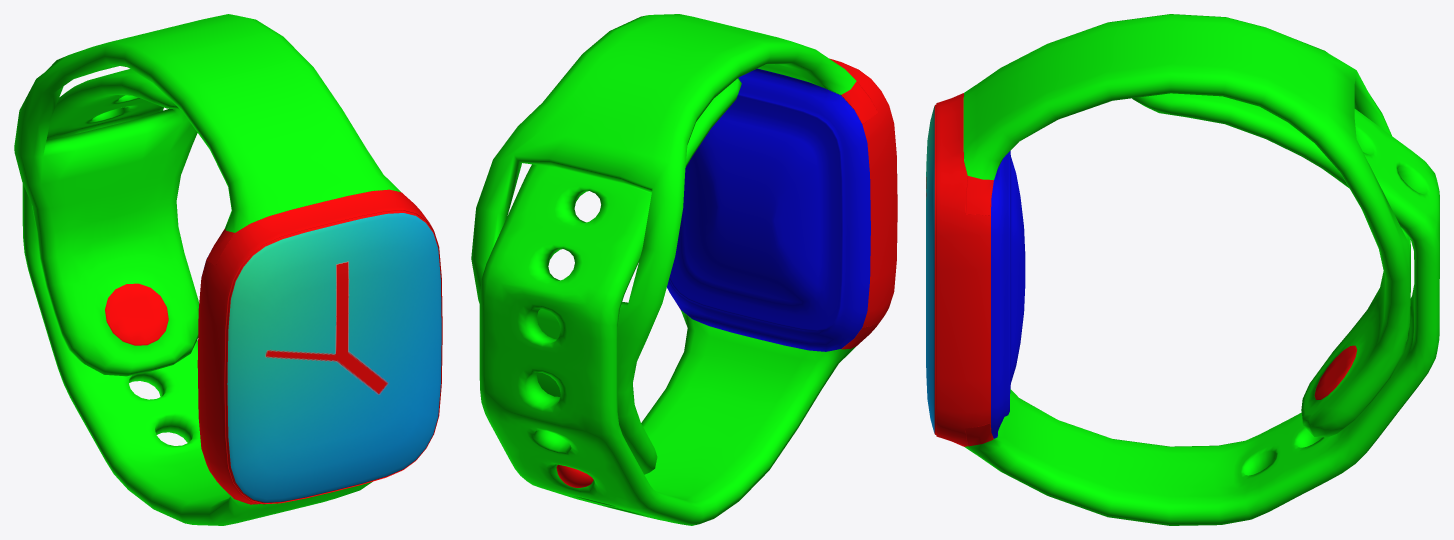
File: watchsquare_main.glb
3 views of the same model, side by side, from view 1: azimuth 30°, elevation 25°; view 2: azimuth 150°, elevation 25°; view 3: azimuth 270°, elevation 25° (orthographic).
Visible parts, largest first — view 1: Apple Watch; view 2: Apple Watch; view 3: Apple Watch.
Boxes of the visible parts, bbox=[...] form: Apple Watch: bbox=[14, 14, 442, 525]; Apple Watch: bbox=[471, 14, 897, 525]; Apple Watch: bbox=[926, 14, 1439, 525].
Bounding box in the file's own units: 0.9761 × 1.86 × 1.9.
1 material, 1 textured.
